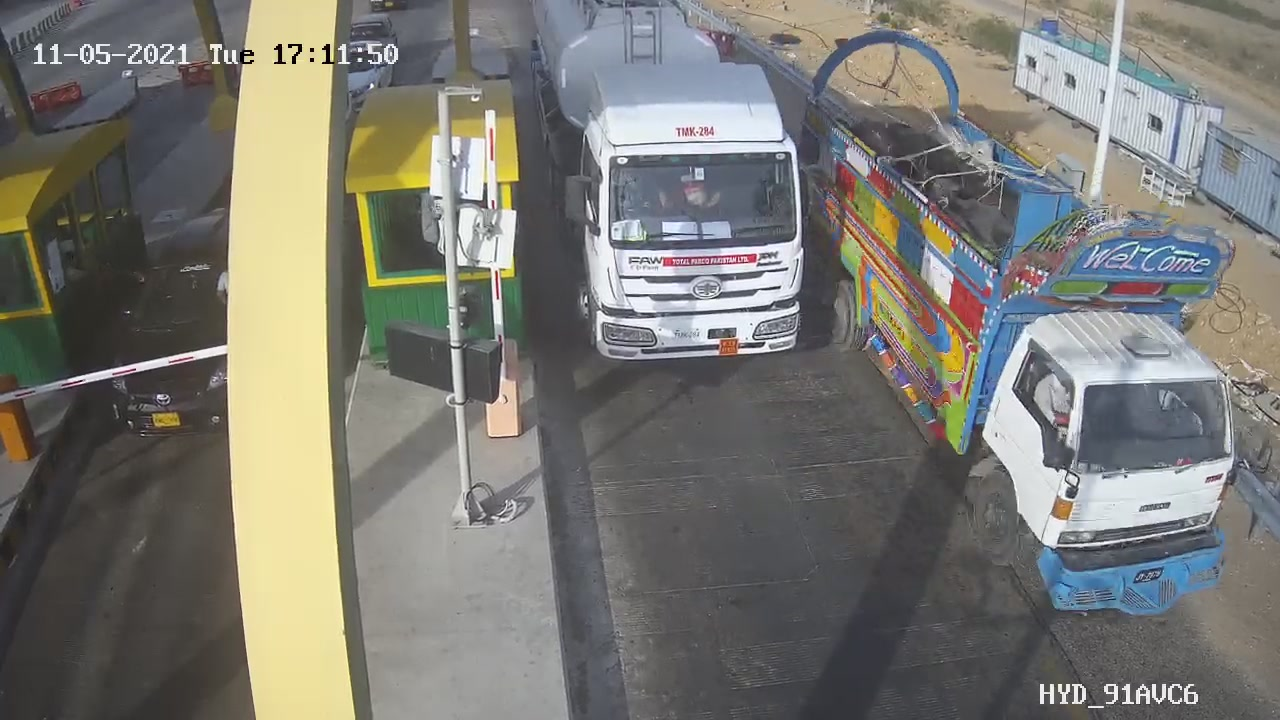F6: (517, 1, 856, 391)
